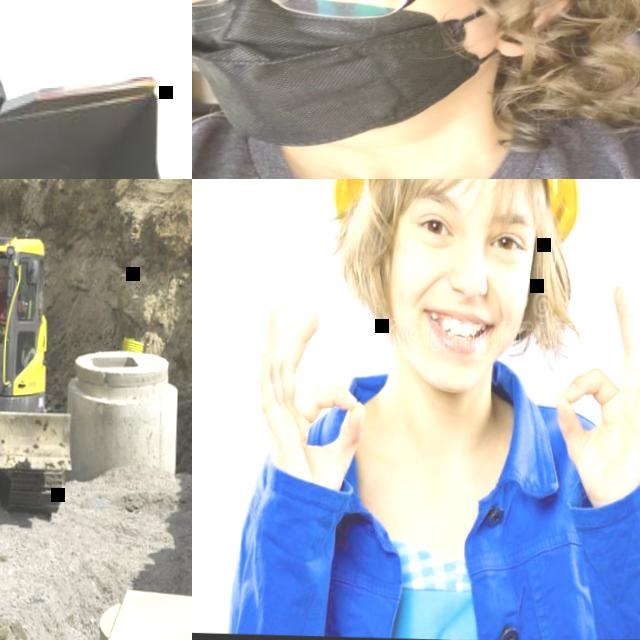Hardhat: (328, 179, 588, 236)
Mask: (192, 0, 507, 147)
NO-Hardhat: (0, 265, 8, 275)
NO-Mask: (393, 295, 519, 393), (0, 281, 7, 292)
NO-Safety Vest: (300, 383, 605, 640), (192, 108, 640, 179)
Person: (202, 179, 640, 640), (192, 0, 640, 179), (0, 264, 24, 376)
vehicle: (0, 179, 78, 640), (0, 0, 192, 179)
